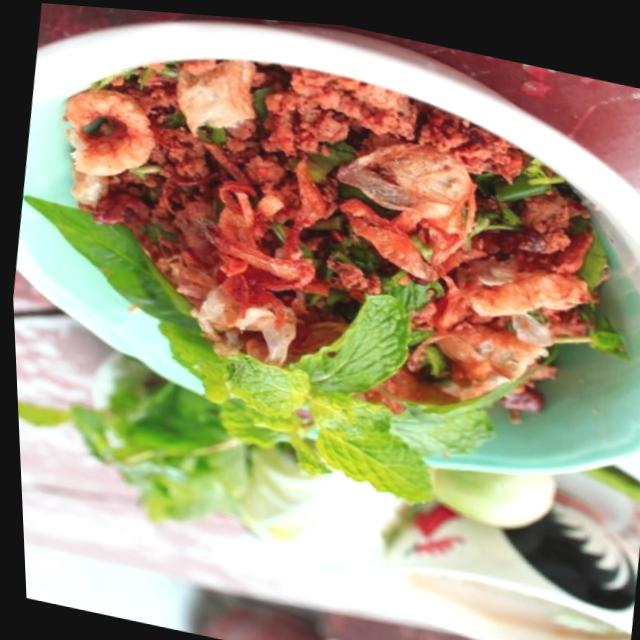鸡肉料理 含炸鸡: (0, 0, 640, 619)
